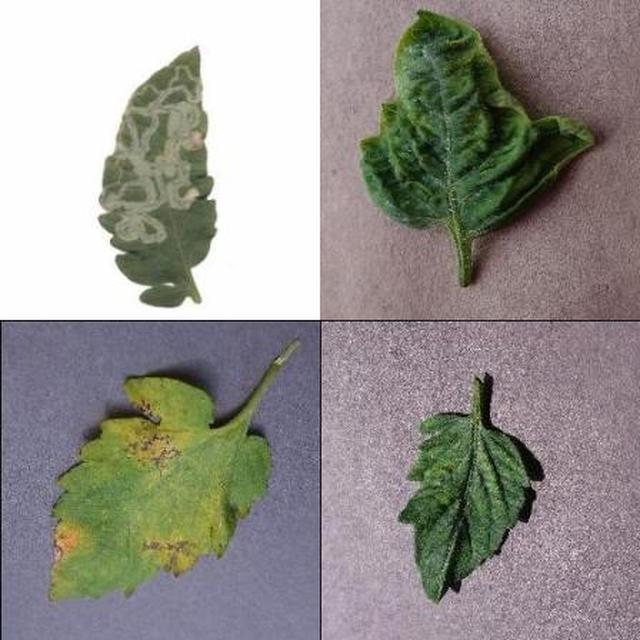Leaf Miner: (176, 178, 640, 640)
